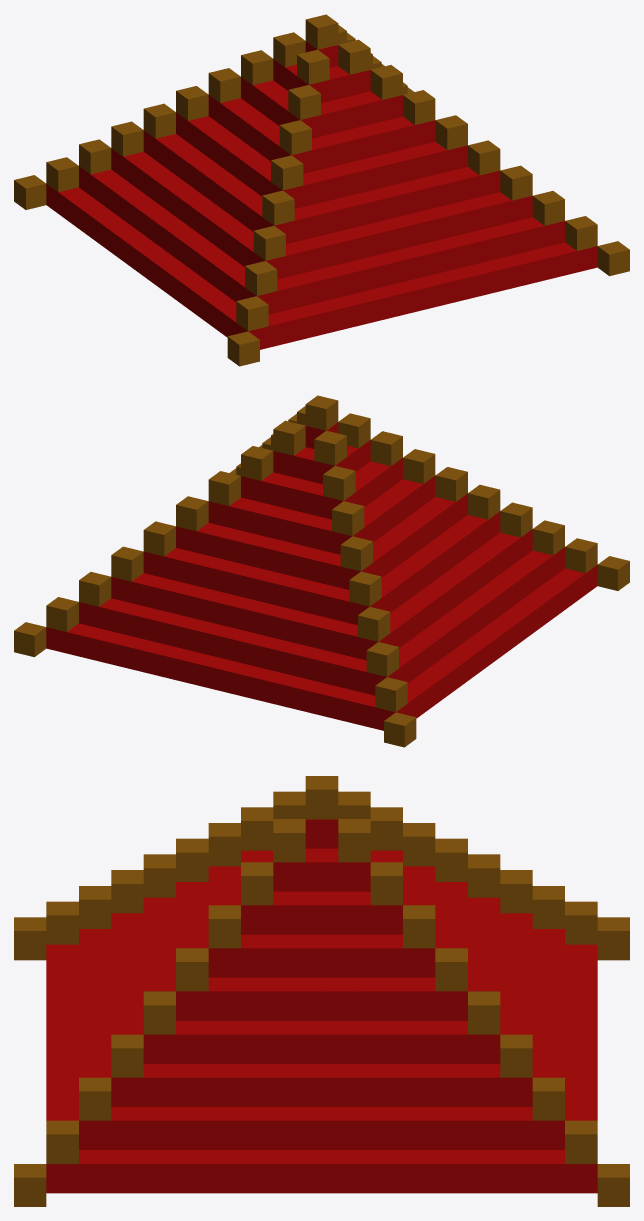
File: TwentyNineModelRoof.fbx
3 views of the same model, one above another, from view 1: azimuth 30°, elevation 25°; view 2: azimuth 150°, elevation 25°; view 3: azimuth 270°, elevation 25° (orthographic). The views are drawn at different scales.
Visible parts, largest first — view 1: Box; view 2: Box; view 3: Box.
Part boxes in pixels (x1=…): Box: x1=14, y1=14, x2=629, y2=366; Box: x1=14, y1=395, x2=629, y2=747; Box: x1=14, y1=776, x2=629, y2=1206.
Bounding box in the file's own units: 19 × 10 × 19.
1 material, 1 textured.
